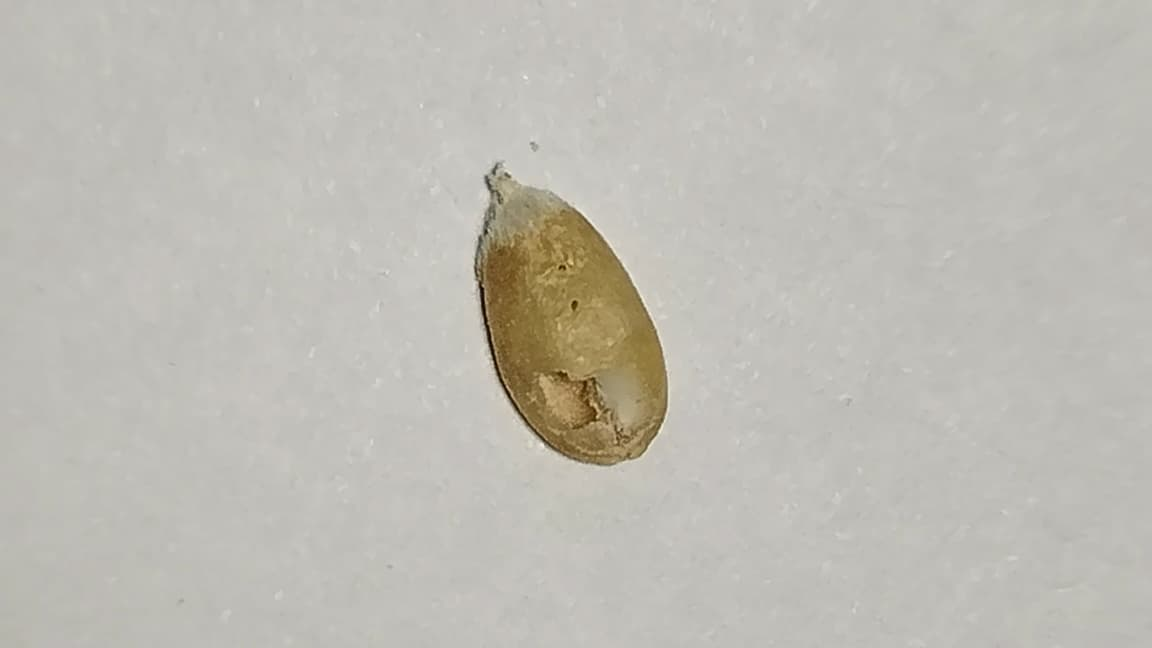damage: (476, 179, 666, 464)
insectdamage: (535, 349, 661, 461)
